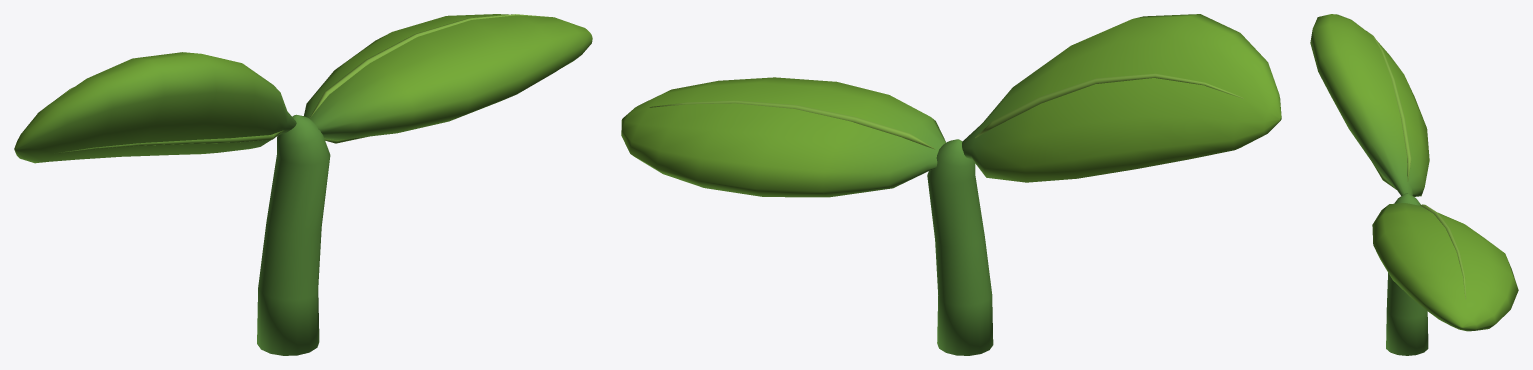
File: Cosmetic_Sapling.glb
The picture shows the model from 3 angles, left to right: view 1: azimuth 30°, elevation 25°; view 2: azimuth 150°, elevation 25°; view 3: azimuth 270°, elevation 25°; orthographic projection. The views are drawn at different scales.
Visible parts, largest first — view 1: Cosmetic_Sapling.001; view 2: Cosmetic_Sapling.001; view 3: Cosmetic_Sapling.001.
Part boxes in pixels (bbox=[...]): Cosmetic_Sapling.001: bbox=[14, 14, 592, 355]; Cosmetic_Sapling.001: bbox=[621, 14, 1281, 355]; Cosmetic_Sapling.001: bbox=[1310, 14, 1518, 355].
Bounding box in the file's own units: 0.675 × 0.3658 × 0.269.
